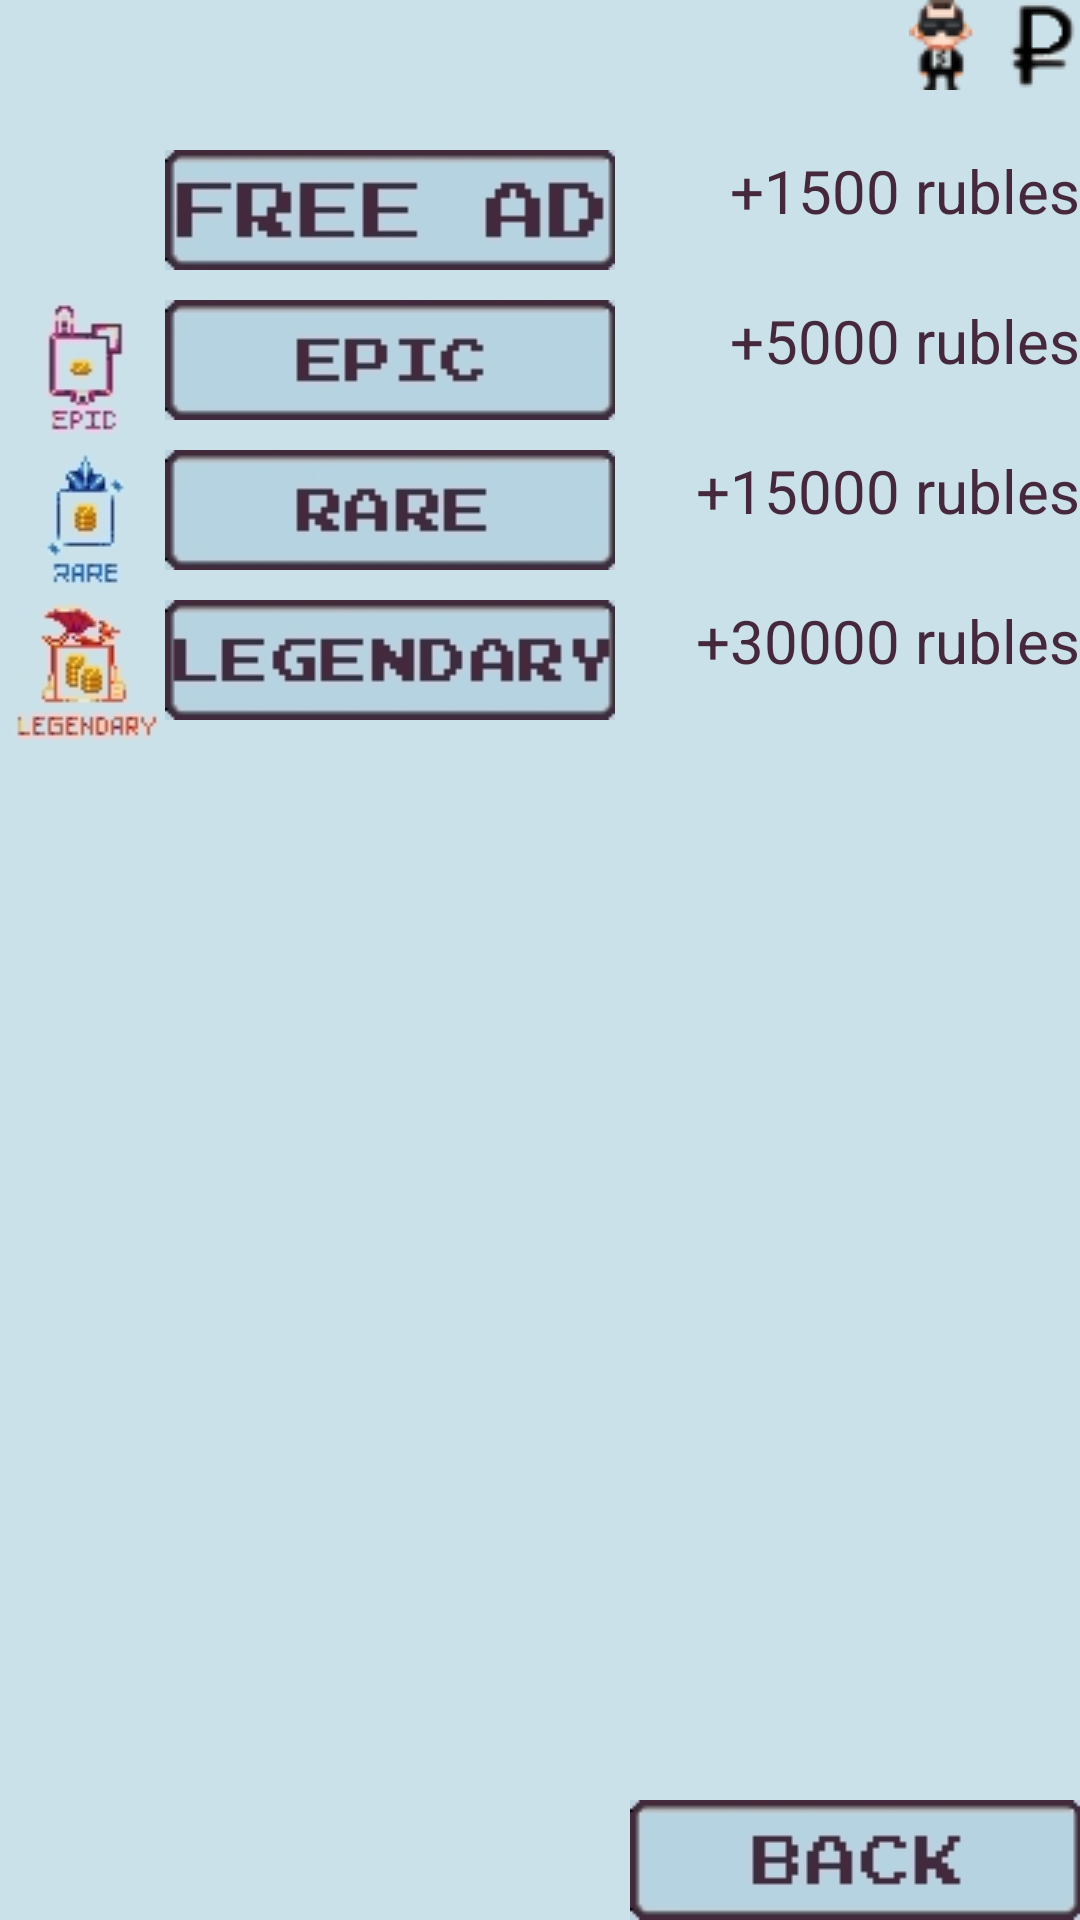

Named icons in this screenshot (1080x1920) and their centers, (x,y):
people: (941,45)
